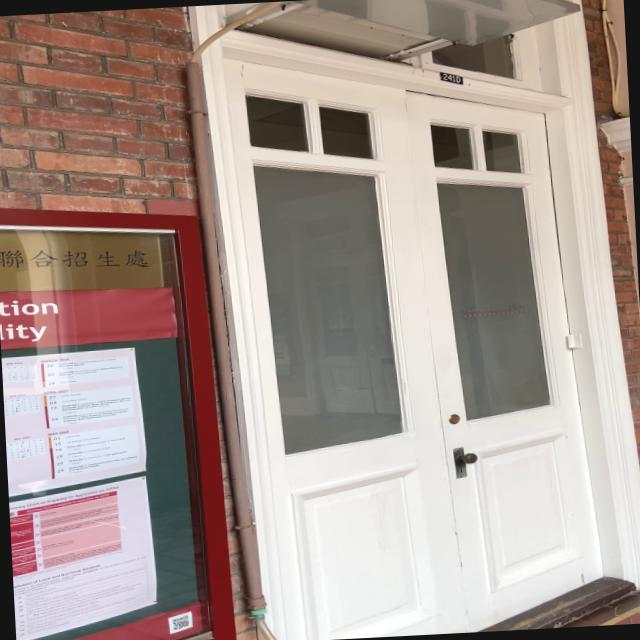room241d: (437, 68, 464, 86)
